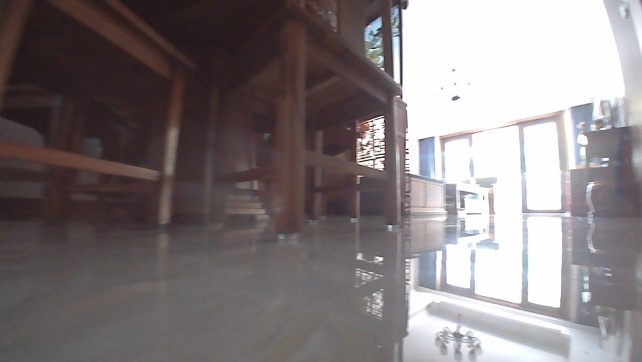dining_table1: (0, 0, 412, 236)
